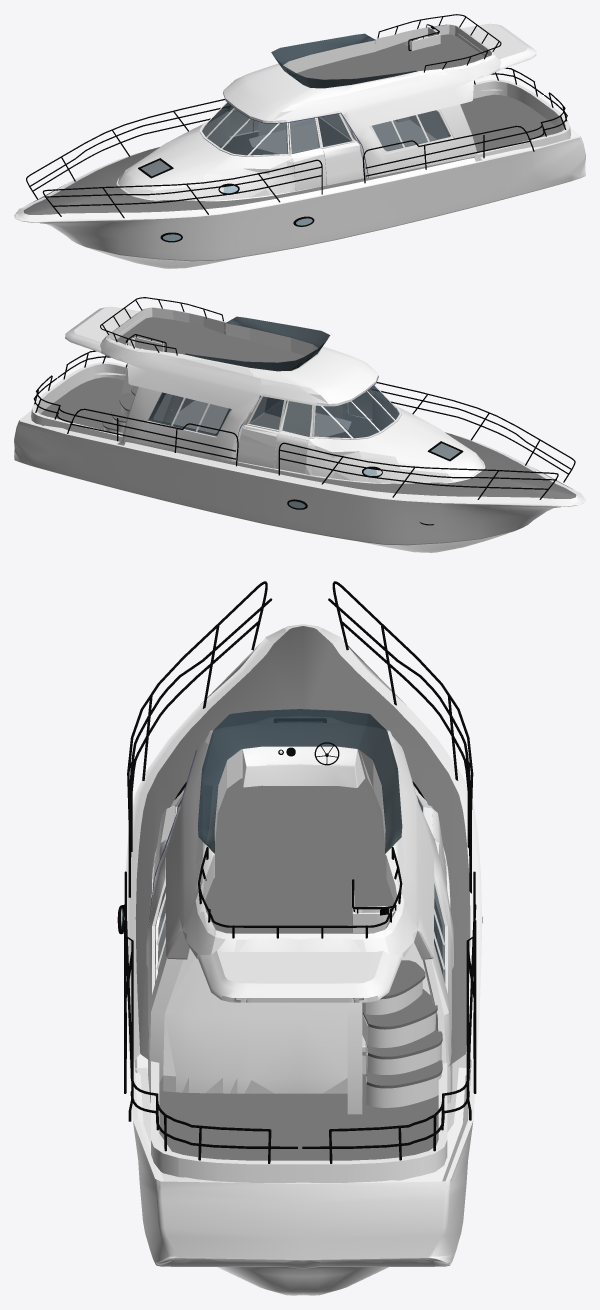
The model's file is Ship.FBX.
The picture shows the model from 3 angles, top to bottom: view 1: azimuth 30°, elevation 25°; view 2: azimuth 150°, elevation 25°; view 3: azimuth 270°, elevation 25°; orthographic projection. The views are drawn at different scales.
Parts seen in each view (by area): view 1: Object02; view 2: Object02; view 3: Object02.
Part boxes in pixels (x1,y1,x2,y2): Object02: (14, 14, 585, 268); Object02: (14, 297, 585, 552); Object02: (117, 581, 482, 1295).
Size of the model in its own units: 135 by 39.4 by 42.87.
